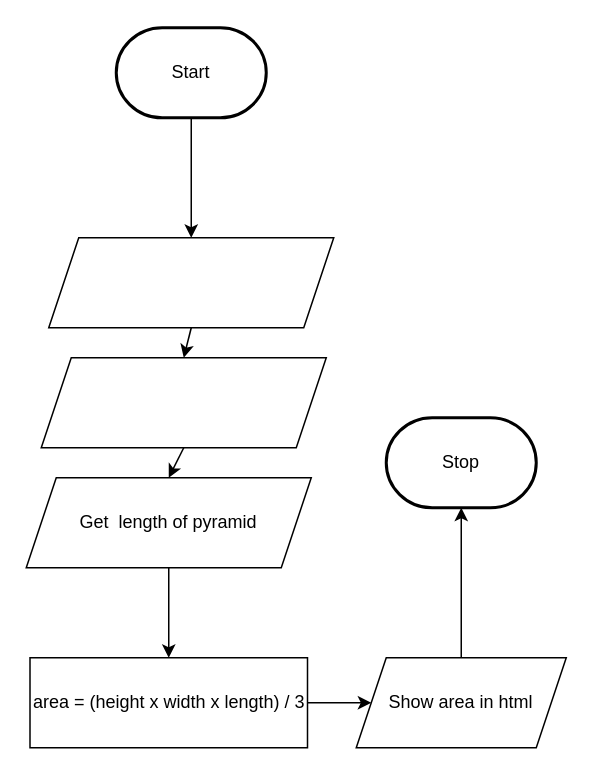
Image size: 593x774. Some labels were removed from this diagram. Each missing label, with the centre of its shape:
"Get height of pyramid" goes at [190,282].
"Get width of pyramid" goes at [183,402].
